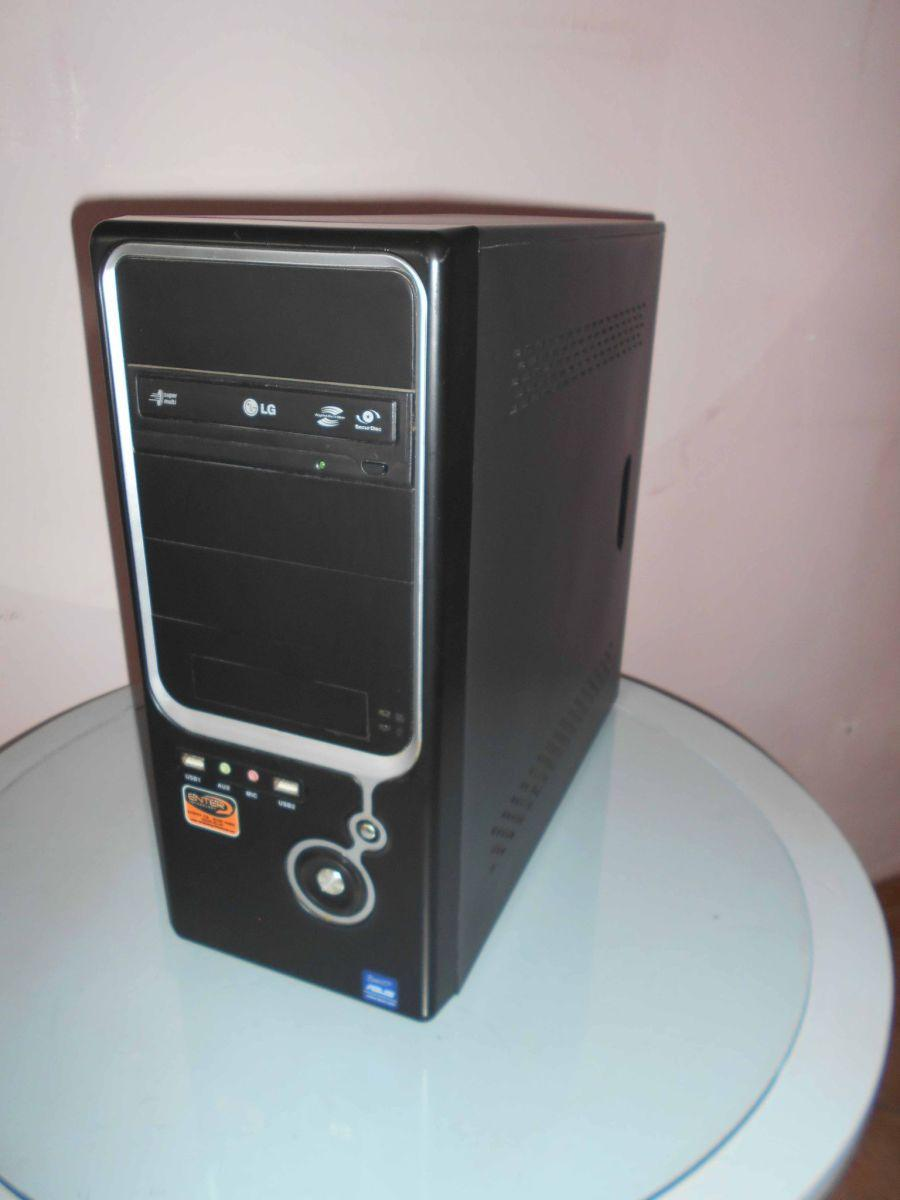DESKTOP PC: (77, 216, 669, 1020)
